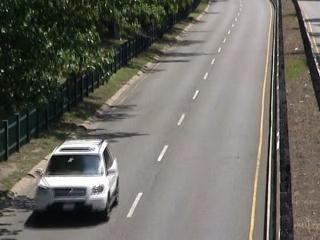car: (28, 137, 124, 223)
